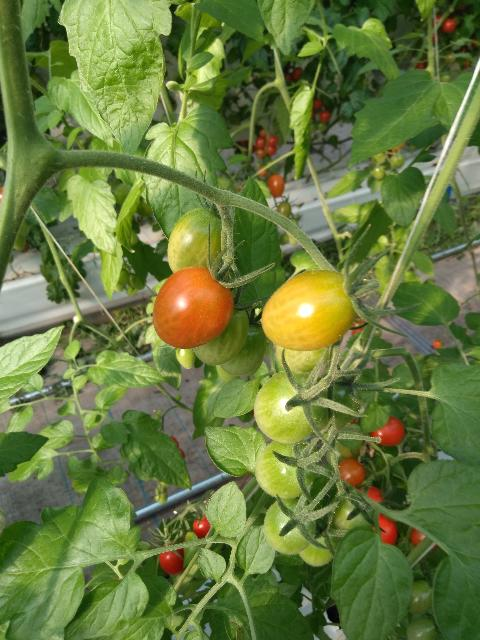l_fully_ripened: (370, 415, 406, 448), (158, 541, 184, 575), (378, 514, 397, 545), (193, 512, 210, 538)
l_green: (254, 369, 331, 444), (167, 208, 225, 274), (254, 439, 317, 499), (192, 301, 250, 366), (263, 497, 316, 555), (316, 373, 361, 434), (220, 323, 266, 376), (329, 492, 375, 540), (298, 522, 338, 567), (275, 344, 334, 371), (407, 616, 442, 640), (409, 580, 432, 614), (216, 365, 241, 384), (176, 347, 196, 370)
l_half_ripened: (261, 269, 358, 351), (153, 266, 234, 348), (338, 458, 365, 487)
